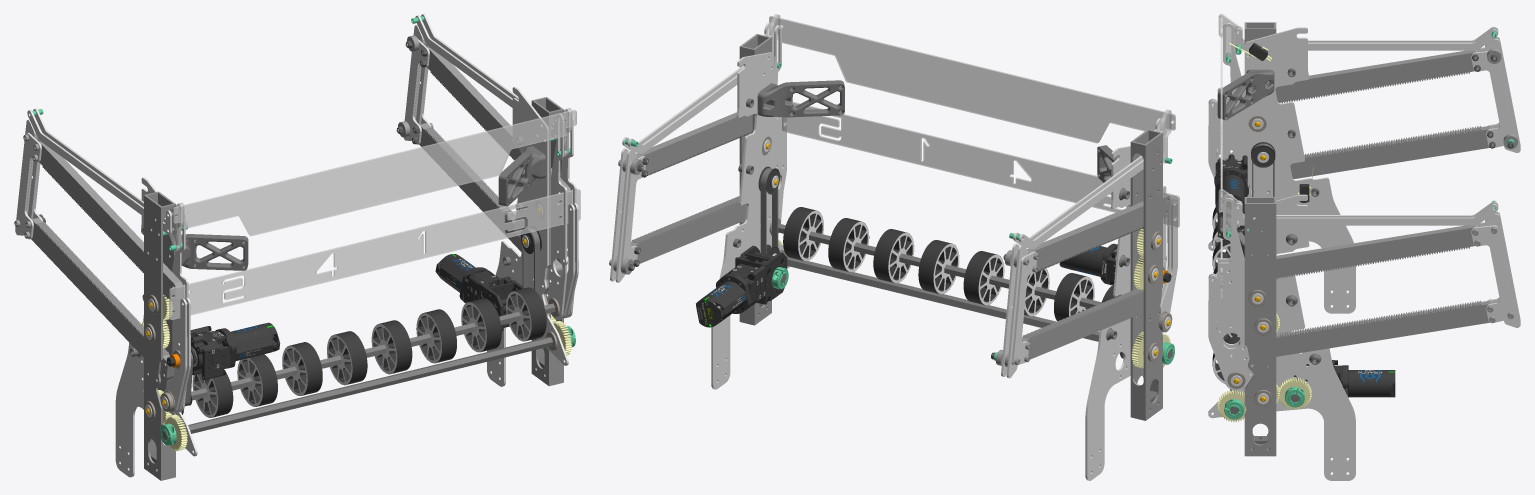
3 views of the same model, side by side, from view 1: azimuth 30°, elevation 25°; view 2: azimuth 150°, elevation 25°; view 3: azimuth 270°, elevation 25° (orthographic). The views are drawn at different scales.
Parts seen in each view (by area): view 1: Flintake Top Front Plate, 3in intake wheel (×8), Flintake Front Plate, Flintake Main Chassis Plate (×2), Flintake Mounting Channel (×2), Flintake Lower Rack Plate (×3), Flintake Upper Rack Plate (×3), 0.5in Hex Shaft (×2), Flintake Front Sandwich Plate (×3), Flintake Top Wall Guide (×4), Front 3d Printed Camera Mount (×2), Kraken X44 Powered by TalonFX (WCP-0941) (×2) (+4 smaller); view 2: Flintake Top Front Plate, Flintake Main Chassis Plate (×2), 3in intake wheel (×7), Flintake Front Plate, Flintake Mounting Channel (×2), Flintake Lower Rack Plate (×2), Flintake Upper Rack Plate (×2), 0.5in Hex Shaft (×2), Flintake Top Wall Guide (×4), Flintake Guide Plate (×4), Front 3d Printed Camera Mount, Kraken X44 Powered by TalonFX (WCP-0941) (×2) (+5 smaller); view 3: Flintake Main Chassis Plate (×2), Flintake Lower Rack Plate (×4), Flintake Upper Rack Plate (×4), Flintake Mounting Channel (×2), Flintake Front Sandwich Plate (×2), Flintake Top Wall Guide (×4), Flintake Back Sandwich Plate (×2), Front 3d Printed Camera Mount (×2), Kraken X44 Powered by TalonFX (WCP-0941) (×2), Ramp Deployment Upper Linkage (×2), Flintake Guide Plate (×2), 40T Aluminum Spur Gear (20 DP, 1_2 Hex Bore) (217-2708) (×2) (+3 smaller).
Part boxes in pixels (left/top/right/bottom): Flintake Top Front Plate: left=173, top=109, right=576, bottom=236; 3in intake wheel (×8): left=192, top=287, right=546, bottom=417; Flintake Front Plate: left=169, top=189, right=580, bottom=319; Flintake Main Chassis Plate (×2): left=115, top=87, right=568, bottom=477; Flintake Mounting Channel (×2): left=144, top=97, right=563, bottom=480; Flintake Lower Rack Plate (×3): left=31, top=123, right=559, bottom=379; Flintake Upper Rack Plate (×3): left=39, top=47, right=551, bottom=301; 0.5in Hex Shaft (×2): left=162, top=303, right=555, bottom=439; Flintake Front Sandwich Plate (×3): left=166, top=114, right=576, bottom=412; Flintake Top Wall Guide (×4): left=27, top=14, right=564, bottom=234; Front 3d Printed Camera Mount (×2): left=181, top=146, right=545, bottom=270; Kraken X44 Powered by TalonFX (WCP-0941) (×2): left=230, top=254, right=475, bottom=360; Flintake Top Front Plate: left=769, top=16, right=1175, bottom=143; Flintake Main Chassis Plate (×2): left=711, top=52, right=1130, bottom=480; 3in intake wheel (×7): left=783, top=207, right=1094, bottom=321; Flintake Front Plate: left=782, top=101, right=1179, bottom=227; Flintake Mounting Channel (×2): left=739, top=34, right=1162, bottom=420; Flintake Lower Rack Plate (×2): left=630, top=198, right=1162, bottom=359; Flintake Upper Rack Plate (×2): left=636, top=114, right=1170, bottom=271; 0.5in Hex Shaft (×2): left=778, top=223, right=1172, bottom=359; Flintake Top Wall Guide (×4): left=622, top=34, right=1164, bottom=249; Flintake Guide Plate (×4): left=610, top=148, right=1027, bottom=378; Front 3d Printed Camera Mount: left=757, top=80, right=844, bottom=117; Kraken X44 Powered by TalonFX (WCP-0941) (×2): left=696, top=246, right=1107, bottom=327; Flintake Main Chassis Plate (×2): left=1208, top=27, right=1355, bottom=480; Flintake Lower Rack Plate (×4): left=1239, top=125, right=1493, bottom=359; Flintake Upper Rack Plate (×4): left=1227, top=49, right=1479, bottom=282; Flintake Mounting Channel (×2): left=1244, top=22, right=1276, bottom=456; Flintake Front Sandwich Plate (×2): left=1216, top=23, right=1253, bottom=390; Flintake Top Wall Guide (×4): left=1234, top=26, right=1498, bottom=225; Flintake Back Sandwich Plate (×2): left=1471, top=51, right=1514, bottom=322; Front 3d Printed Camera Mount (×2): left=1217, top=69, right=1274, bottom=251; Kraken X44 Powered by TalonFX (WCP-0941) (×2): left=1215, top=175, right=1395, bottom=397; Ramp Deployment Upper Linkage (×2): left=1208, top=100, right=1232, bottom=378; Flintake Guide Plate (×2): left=1485, top=38, right=1520, bottom=327; 40T Aluminum Spur Gear (20 DP, 1_2 Hex Bore) (217-2708) (×2): left=1217, top=377, right=1311, bottom=422.
Size of the model in its own units: 0.6998 by 0.5191 by 0.4991.
